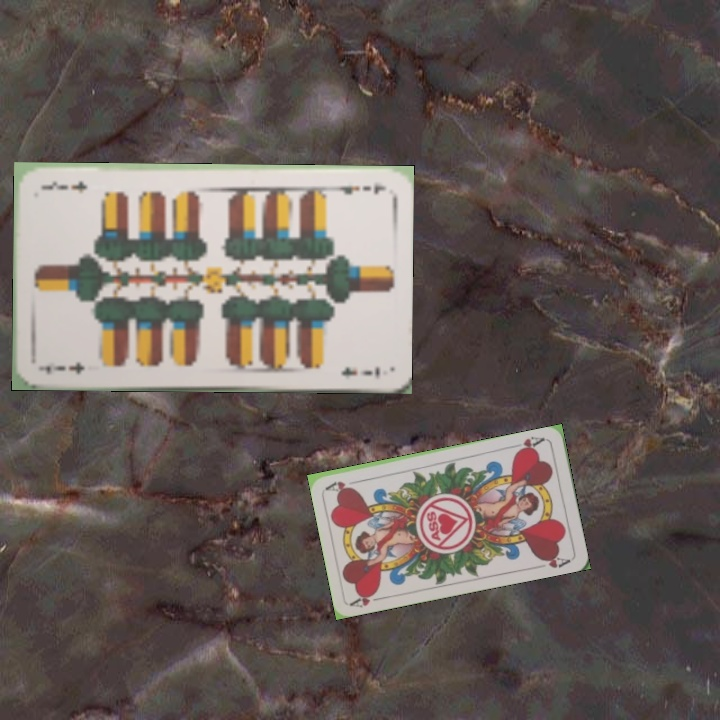E7: (328, 180, 387, 197), (37, 358, 88, 377)
HA: (347, 587, 388, 610), (508, 432, 547, 456)
